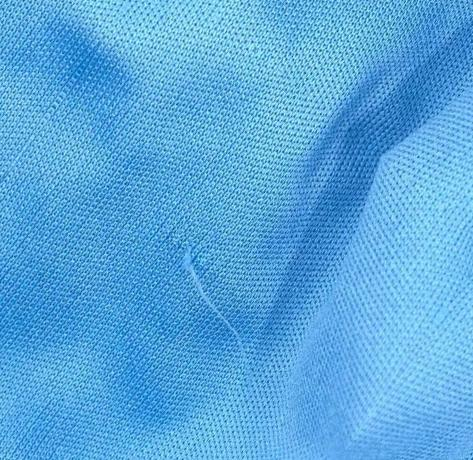snag: (176, 237, 256, 371)
